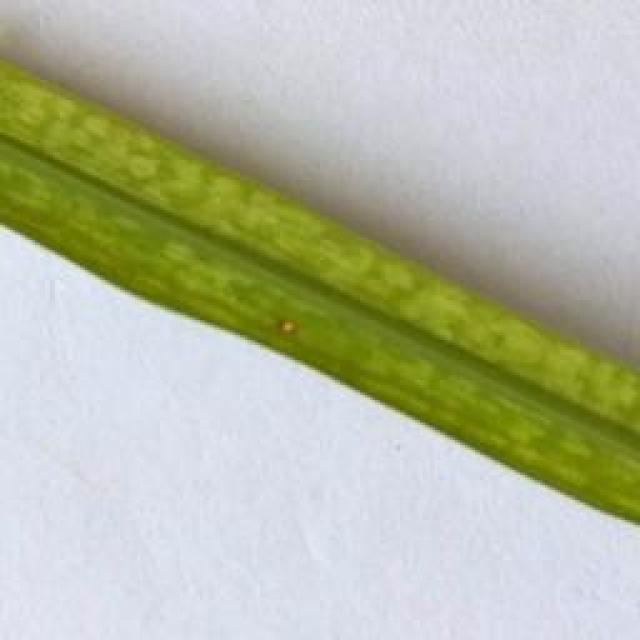Unhealthy: (277, 319, 299, 337)
